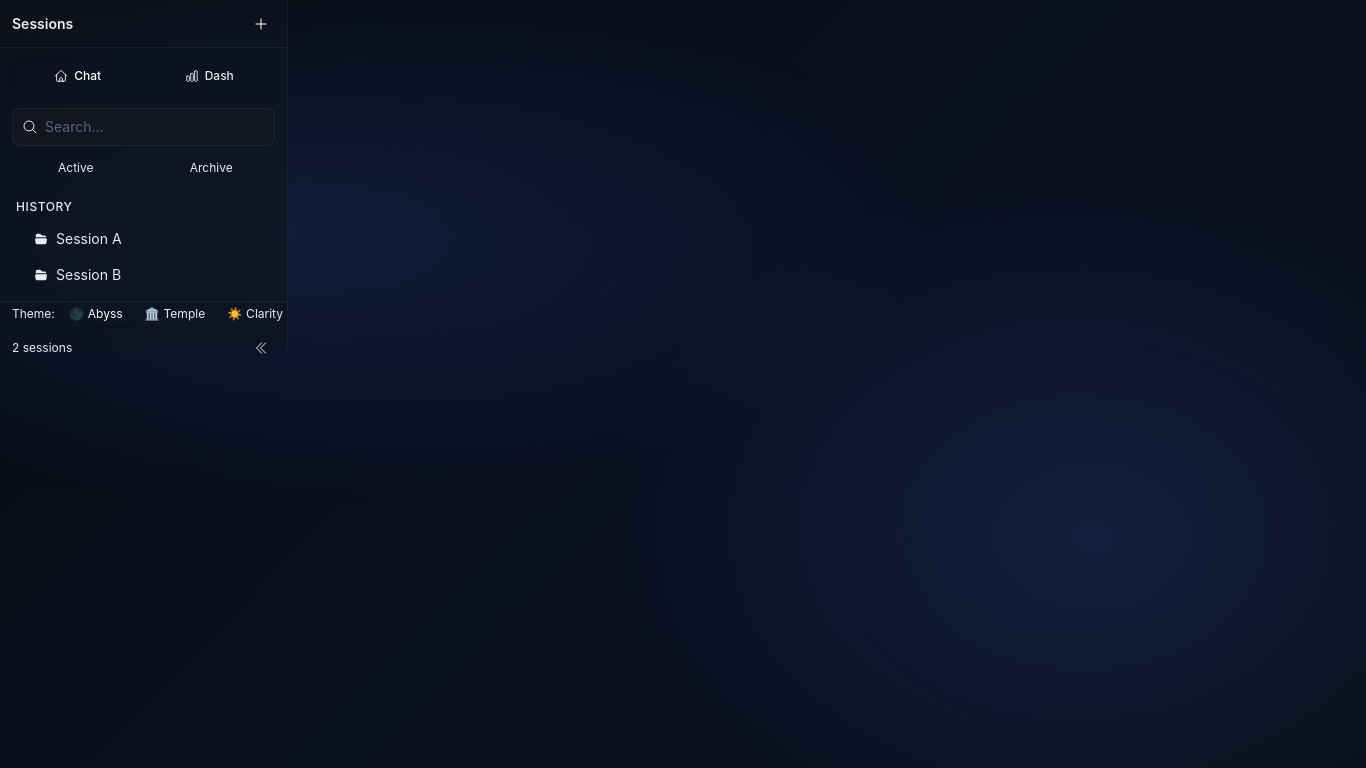
Test: Sidebar › search › filters sessions by tag
Check: the text "Session A" is shown, box [56,230,122,247]
Type "important" into the field with placeholder "Search...".
click(144, 127); type("important")  # box [12,108,275,146]
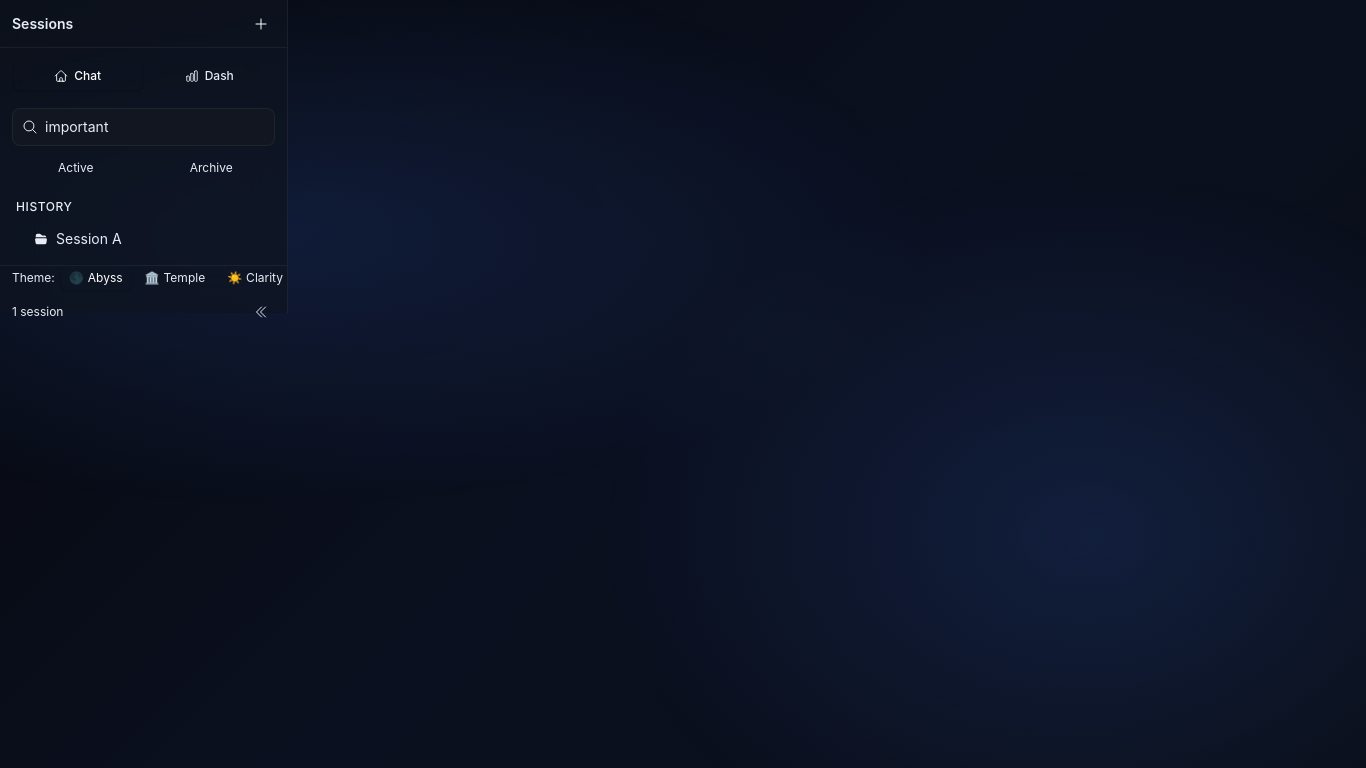
Check: the text "Session A" is shown, box [56,230,122,247]
Check: the text "Session B" is gone
